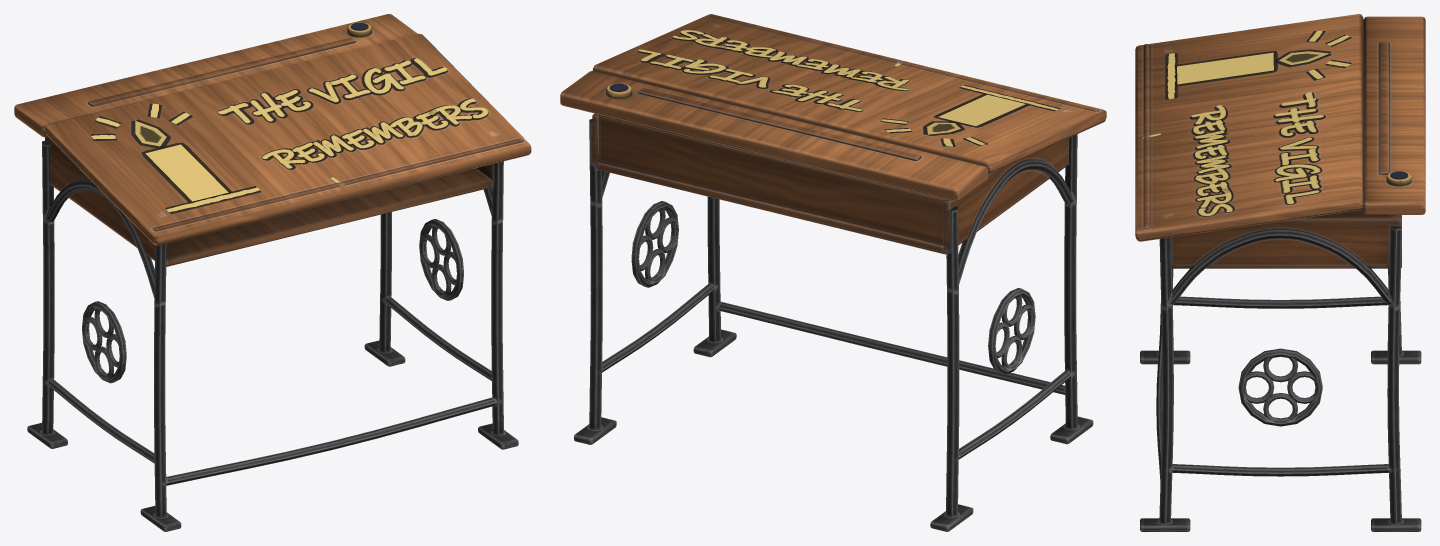
File: StudentDeskPrankVigil.fbx
3 renders of one model, left to right at view 1: azimuth 30°, elevation 25°; view 2: azimuth 150°, elevation 25°; view 3: azimuth 270°, elevation 25°, orthographic. The views are drawn at different scales.
Parts seen in each view (by area): view 1: StudentDeskPrankVigil; view 2: StudentDeskPrankVigil; view 3: StudentDeskPrankVigil.
Boxes of the visible parts, box(x1,y1,x2,y2) form: StudentDeskPrankVigil: box(14, 14, 531, 531); StudentDeskPrankVigil: box(560, 14, 1106, 531); StudentDeskPrankVigil: box(1135, 14, 1425, 531).
Size of the model in its own units: 300 by 255 by 196.
